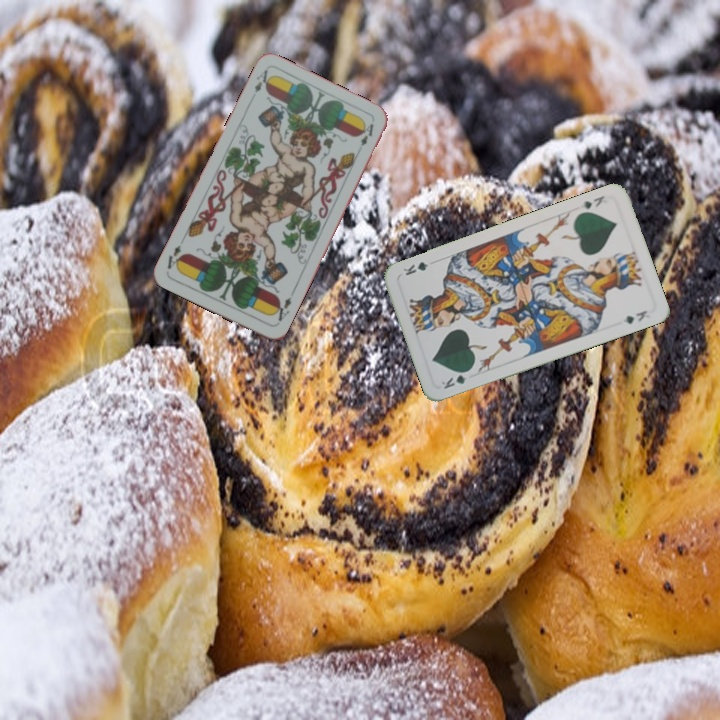EA: (268, 293, 294, 324), (250, 65, 274, 95)
GK: (437, 366, 474, 392), (578, 191, 607, 212)
